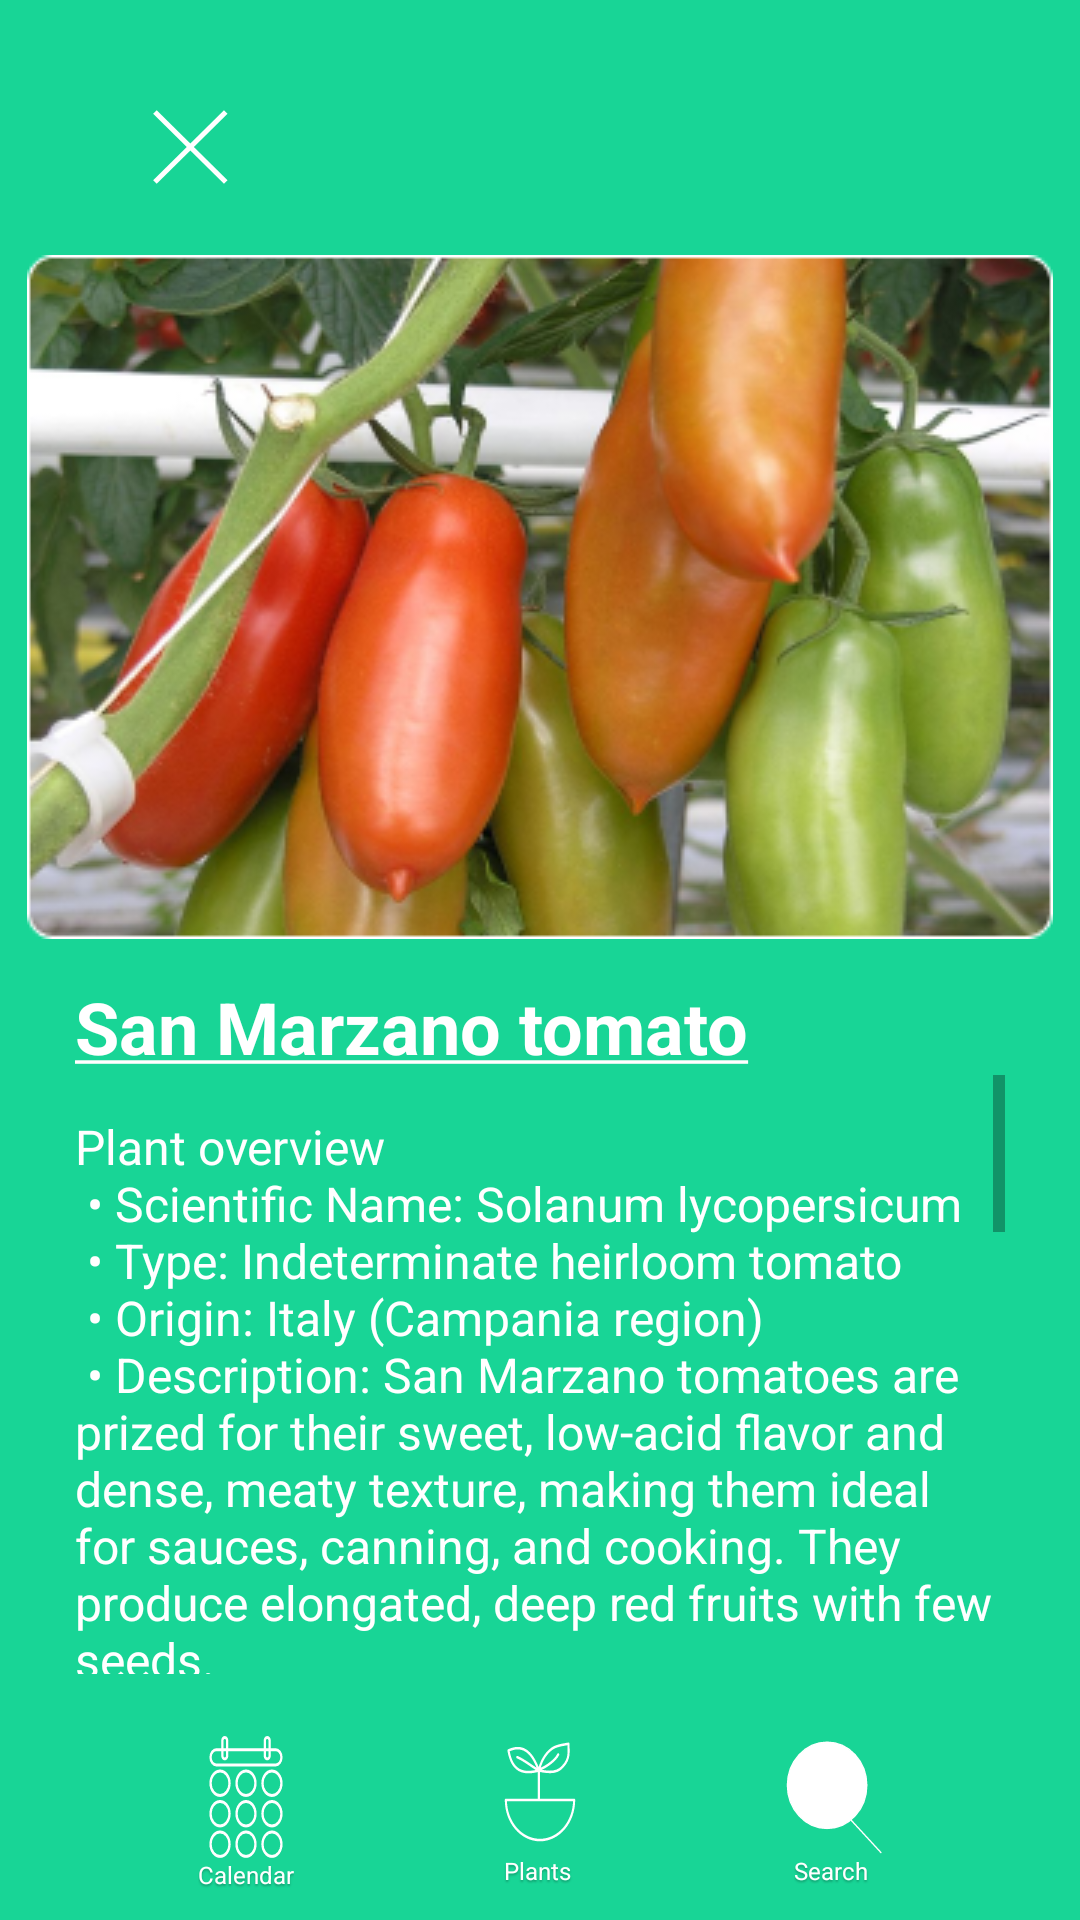

Icon click points for this 1080w x 1920h phone screenshot, format [x,y]:
esc: [190,147]
